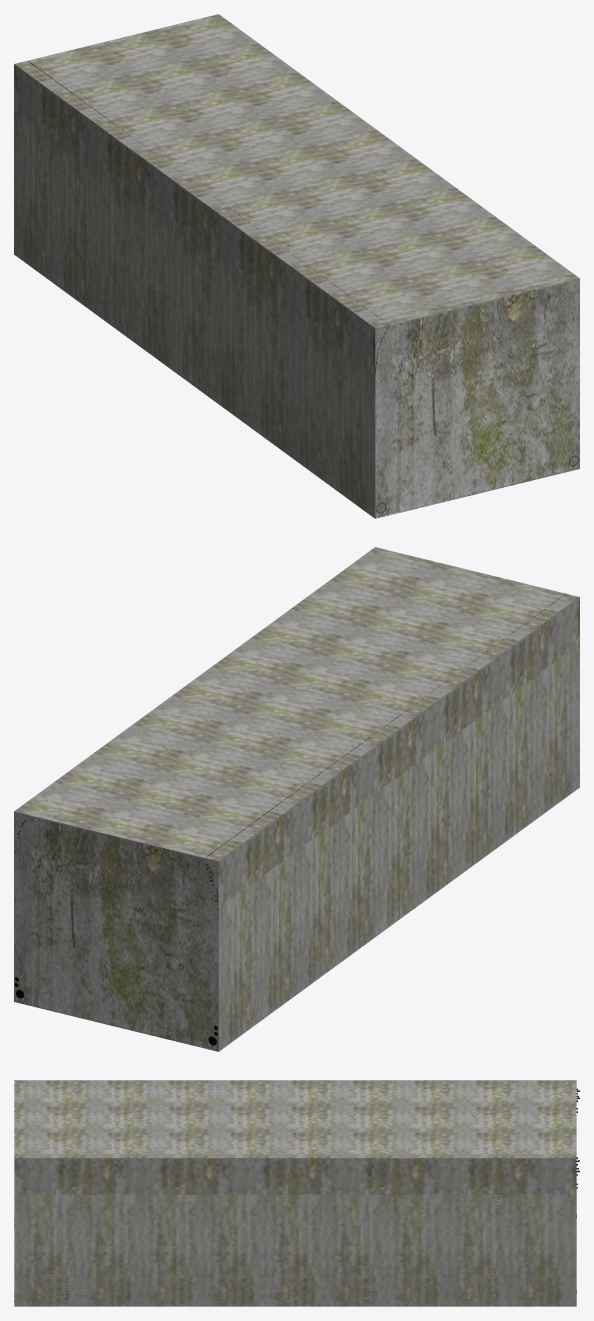
The model's file is 1tunnel_baked.glb.
The picture shows the model from 3 angles, top to bottom: view 1: azimuth 30°, elevation 25°; view 2: azimuth 150°, elevation 25°; view 3: azimuth 270°, elevation 25°; orthographic projection. The views are drawn at different scales.
Parts seen in each view (by area): view 1: wall; view 2: wall; view 3: wall.
Boxes of the visible parts, x1,y1,x2,y2 form: wall: (14, 14, 579, 518); wall: (14, 547, 579, 1051); wall: (14, 1080, 576, 1306).
Bounding box in the file's own units: 18 × 16.03 × 55.34.
Materials: 11 (5 with a texture image).
